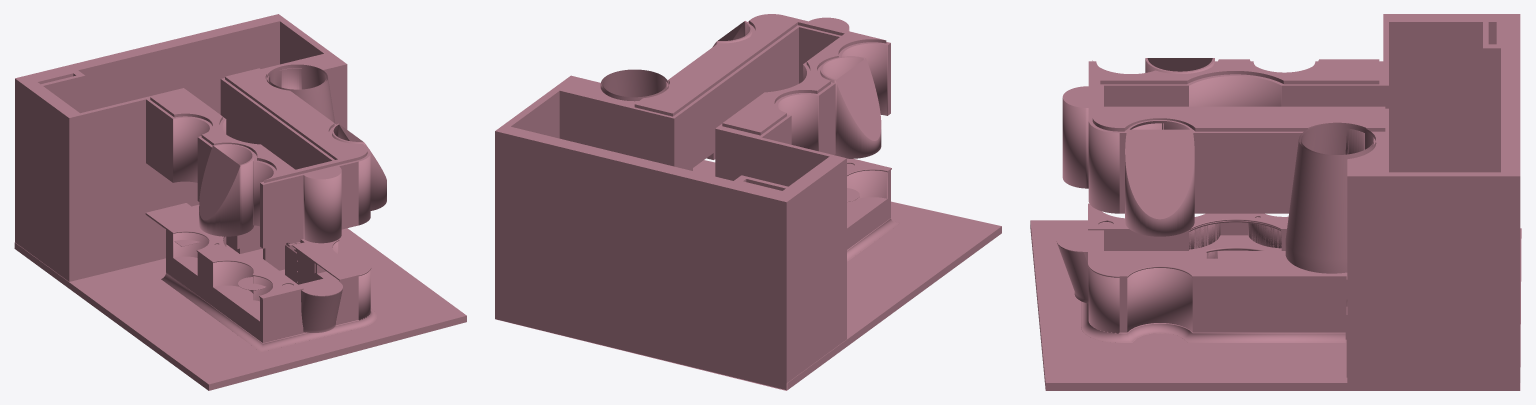
Rendered from asset.glb.
3 views of the same model, side by side, from view 1: azimuth 30°, elevation 25°; view 2: azimuth 150°, elevation 25°; view 3: azimuth 270°, elevation 25° (orthographic). The views are drawn at different scales.
Visible parts, largest first — view 1: the final model.014, the final model.013, the final model.006, the final model.011, the final model.003, the final model, the final model.008, the final model.012, the final model.021, the final model.020, the final model.022, the final model.001 (+3 smaller); view 2: the final model.014, the final model.006, the final model.013, the final model, the final model.011, the final model.004, the final model.003, the final model.020, the final model.021; view 3: the final model.014, the final model.006, the final model.013, the final model.003, the final model.020, the final model.010, the final model.002, the final model.001, the final model.021, the final model.012, the final model.022, the final model.008 (+3 smaller).
Boxes of the visible parts, left/top/right/bottom form: the final model.014: left=15, top=14, right=347, bottom=281; the final model.013: left=14, top=205, right=466, bottom=390; the final model.006: left=146, top=68, right=370, bottom=248; the final model.011: left=80, top=88, right=185, bottom=278; the final model.003: left=166, top=229, right=370, bottom=342; the final model: left=199, top=144, right=254, bottom=236; the final model.008: left=145, top=203, right=303, bottom=299; the final model.012: left=303, top=166, right=341, bottom=243; the final model.021: left=161, top=272, right=376, bottom=351; the final model.020: left=266, top=64, right=335, bottom=123; the final model.022: left=300, top=278, right=342, bottom=332; the final model.001: left=215, top=225, right=336, bottom=287; the final model.014: left=495, top=75, right=846, bottom=389; the final model.006: left=630, top=14, right=890, bottom=170; the final model.013: left=496, top=160, right=1001, bottom=390; the final model: left=820, top=56, right=881, bottom=158; the final model.011: left=715, top=127, right=831, bottom=186; the final model.004: left=559, top=77, right=638, bottom=155; the final model.003: left=847, top=170, right=890, bottom=249; the final model.020: left=600, top=69, right=668, bottom=101; the final model.021: left=847, top=218, right=899, bottom=261; the final model.014: left=1347, top=14, right=1520, bottom=382; the final model.006: left=1088, top=59, right=1388, bottom=213; the final model.013: left=1030, top=220, right=1521, bottom=390; the final model.003: left=1088, top=222, right=1346, bottom=339; the final model.020: left=1285, top=123, right=1376, bottom=273; the final model.010: left=1125, top=120, right=1194, bottom=236; the final model.002: left=1088, top=251, right=1347, bottom=277; the final model.001: left=1098, top=217, right=1286, bottom=258; the final model.021: left=1081, top=301, right=1345, bottom=342; the final model.012: left=1062, top=86, right=1088, bottom=188; the final model.022: left=1056, top=229, right=1099, bottom=303; the final model.008: left=1088, top=203, right=1288, bottom=230.
Size of the model in its own units: 4.98 by 3.12 by 6.36.
